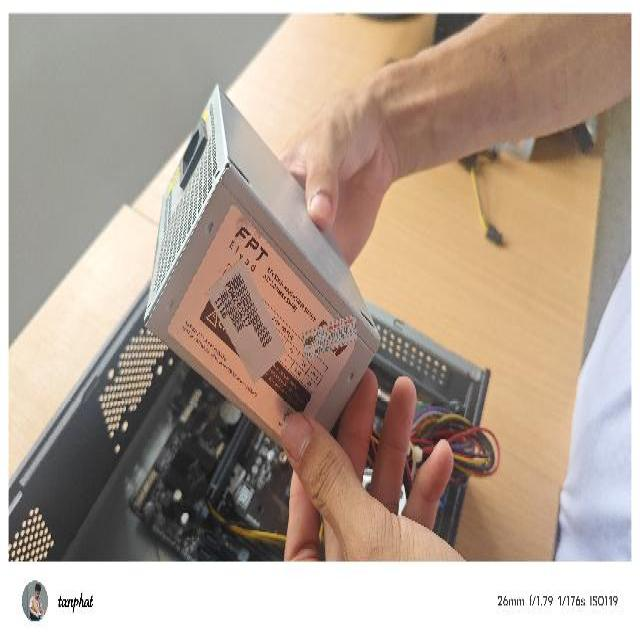PSU: (139, 81, 384, 468)
